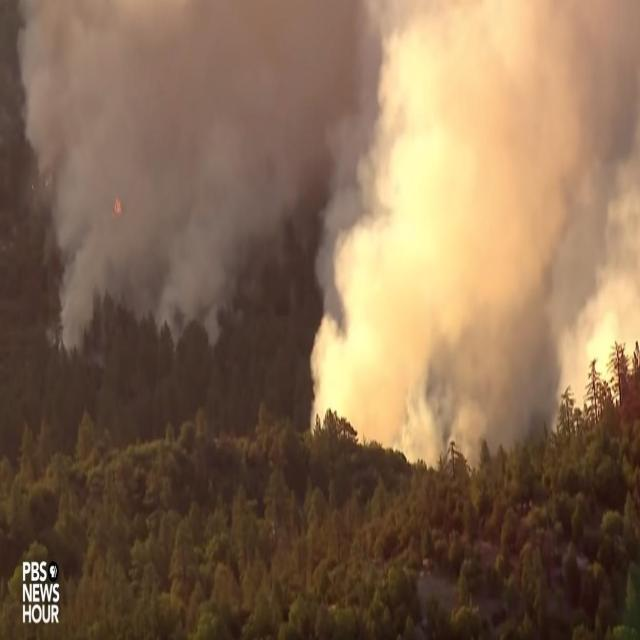Fire: (114, 196, 125, 221)
Smoke: (324, 29, 626, 436), (21, 3, 311, 240)
